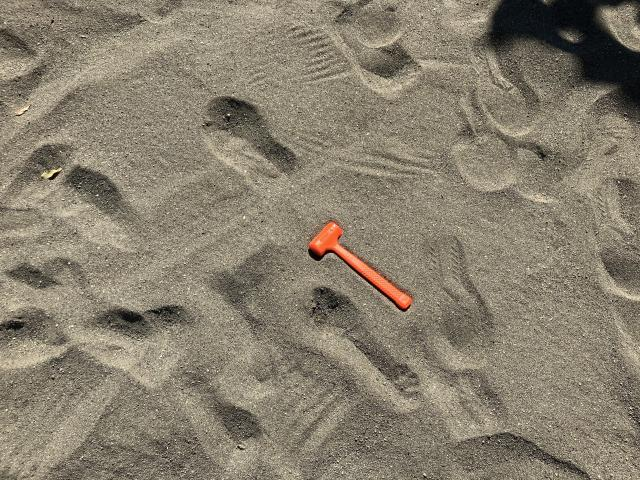hammer: (310, 221, 414, 310)
